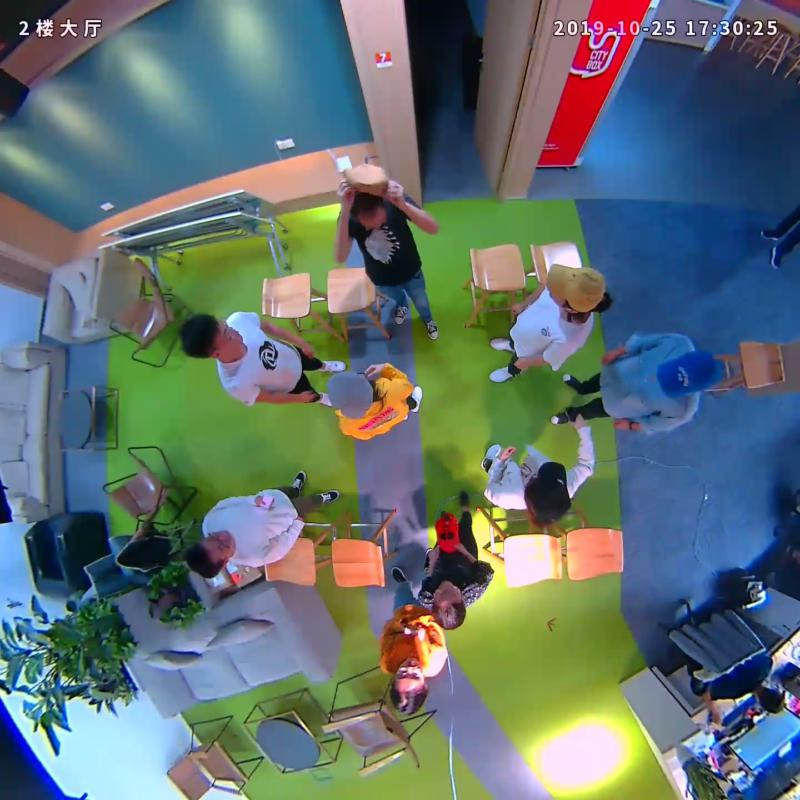head: (545, 262, 607, 314), (658, 350, 722, 398), (179, 312, 243, 360), (524, 462, 571, 526), (185, 530, 236, 580), (390, 654, 429, 719), (326, 369, 375, 419), (430, 578, 467, 631), (345, 187, 387, 230)
